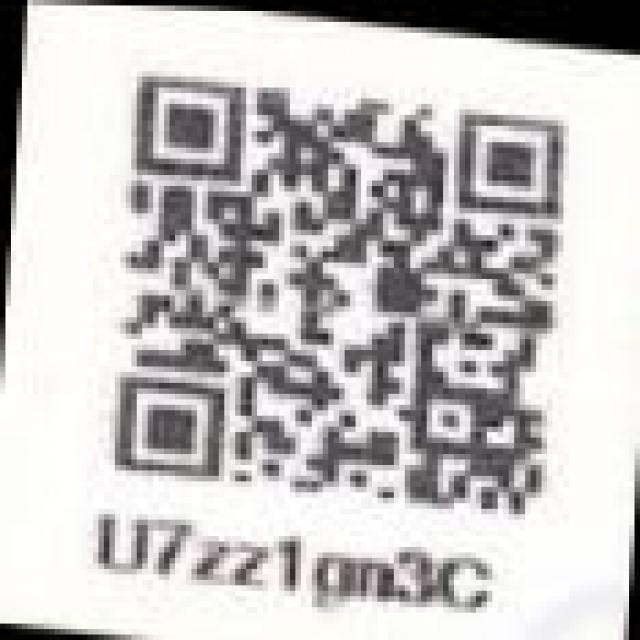QRCode: (83, 50, 586, 532)
